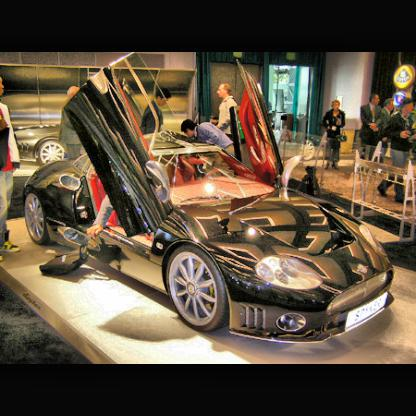Spyker C8 Convertible 2009: (22, 53, 398, 346)
